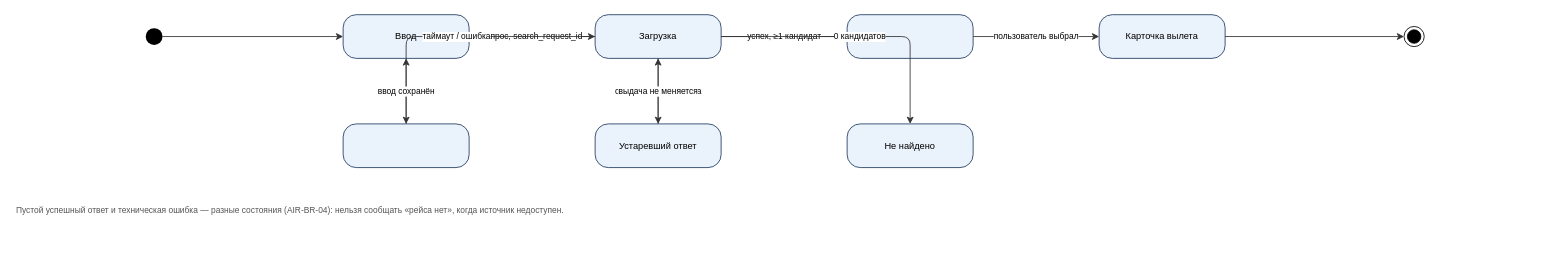
Image size: 1551x257. Some labels were removed from this diagram. Each missing label, with the centre of its shape:
Ошибка источника: point 405,145
Список кандидатов: point 909,36
